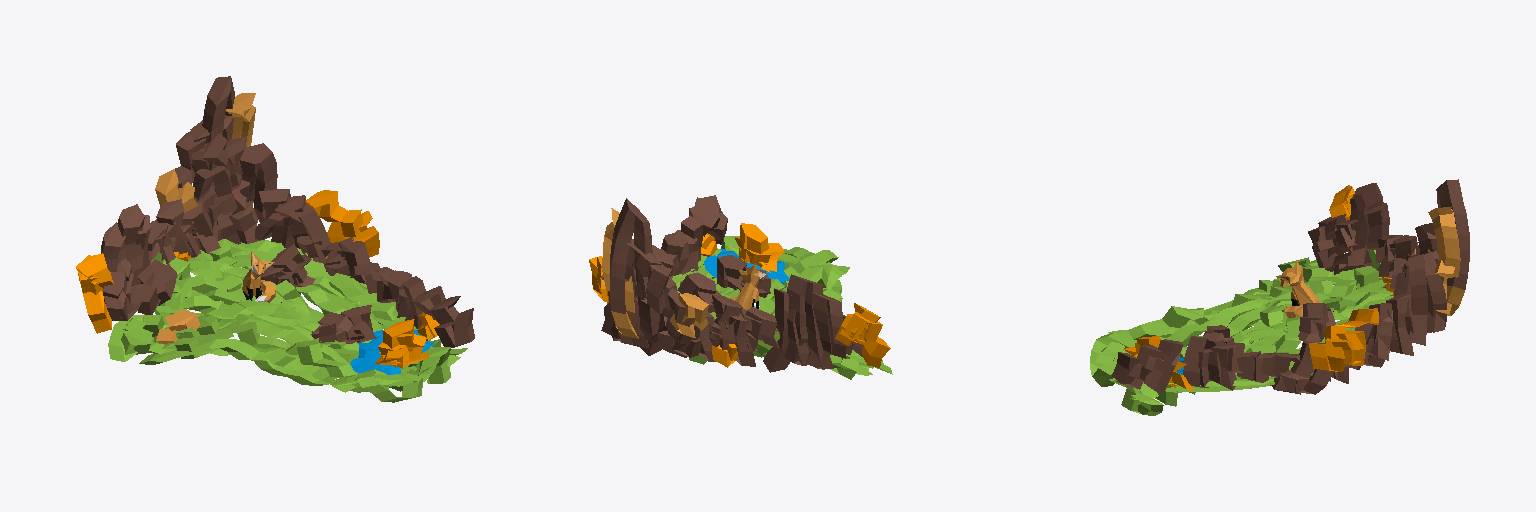
3 views of the same model, side by side, from view 1: azimuth 30°, elevation 25°; view 2: azimuth 150°, elevation 25°; view 3: azimuth 270°, elevation 25° (orthographic).
Visible parts, largest first — view 1: group[number redacted], group[number redacted], group[number redacted], group[number redacted], group[number redacted], group[number redacted], group[number redacted], group[number redacted], group[number redacted], group[number redacted], group[number redacted], group[number redacted] (+16 smaller); view 2: group[number redacted], group[number redacted], group[number redacted], group[number redacted], group[number redacted], group[number redacted], group[number redacted], group[number redacted], group[number redacted], group[number redacted], group[number redacted], group[number redacted]; view 3: group[number redacted], group[number redacted], group[number redacted], group[number redacted], group[number redacted], group[number redacted], group[number redacted], group[number redacted], group[number redacted], group[number redacted], group[number redacted], group[number redacted] (+6 smaller).
Part boxes in pixels (bbox=[...]): group[number redacted]: bbox=[229, 143, 425, 328]; group[number redacted]: bbox=[155, 76, 255, 220]; group[number redacted]: bbox=[101, 204, 176, 320]; group[number redacted]: bbox=[189, 239, 398, 357]; group[number redacted]: bbox=[148, 199, 240, 264]; group[number redacted]: bbox=[305, 190, 379, 258]; group[number redacted]: bbox=[330, 347, 467, 402]; group[number redacted]: bbox=[411, 286, 474, 347]; group[number redacted]: bbox=[139, 338, 330, 385]; group[number redacted]: bbox=[148, 337, 353, 377]; group[number redacted]: bbox=[76, 253, 113, 333]; group[number redacted]: bbox=[151, 322, 388, 392]; group[number redacted]: bbox=[600, 198, 708, 340]; group[number redacted]: bbox=[763, 274, 863, 372]; group[number redacted]: bbox=[640, 295, 779, 366]; group[number redacted]: bbox=[601, 215, 702, 348]; group[number redacted]: bbox=[835, 303, 890, 367]; group[number redacted]: bbox=[689, 195, 727, 244]; group[number redacted]: bbox=[734, 223, 772, 266]; group[number redacted]: bbox=[721, 236, 841, 276]; group[number redacted]: bbox=[677, 272, 721, 312]; group[number redacted]: bbox=[717, 255, 746, 289]; group[number redacted]: bbox=[830, 350, 892, 379]; group[number redacted]: bbox=[730, 263, 765, 309]; group[number redacted]: bbox=[1183, 252, 1446, 394]; group[number redacted]: bbox=[1308, 183, 1389, 287]; group[number redacted]: bbox=[1407, 179, 1469, 315]; group[number redacted]: bbox=[1309, 308, 1378, 371]; group[number redacted]: bbox=[1112, 339, 1183, 392]; group[number redacted]: bbox=[1090, 331, 1163, 415]; group[number redacted]: bbox=[1367, 235, 1431, 332]; group[number redacted]: bbox=[1182, 288, 1393, 394]; group[number redacted]: bbox=[1128, 280, 1272, 339]; group[number redacted]: bbox=[1180, 268, 1356, 357]; group[number redacted]: bbox=[1308, 266, 1378, 300]; group[number redacted]: bbox=[1298, 303, 1335, 342].
Bounding box in the file's own units: 1.01 × 0.6935 × 1.14.